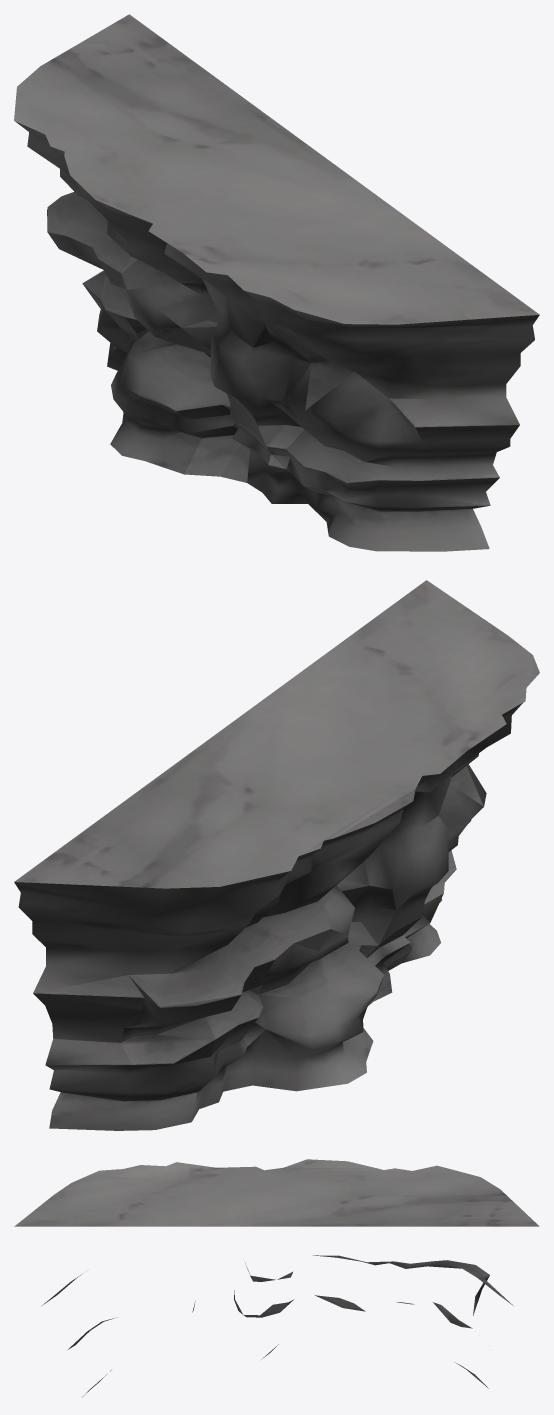
3 views of the same model, one above another, from view 1: azimuth 30°, elevation 25°; view 2: azimuth 150°, elevation 25°; view 3: azimuth 270°, elevation 25° (orthographic). The views are drawn at different scales.
Parts seen in each view (by area): view 1: body0_model0_lod0_mesh0; view 2: body0_model0_lod0_mesh0; view 3: body0_model0_lod0_mesh0.
Boxes of the visible parts, x1=… form: body0_model0_lod0_mesh0: x1=14, y1=14, x2=539, y2=551; body0_model0_lod0_mesh0: x1=14, y1=580, x2=539, y2=1130; body0_model0_lod0_mesh0: x1=14, y1=1159, x2=539, y2=1397.
Bounding box in the file's own units: 268 × 323 × 881.
1 material, 1 textured.
